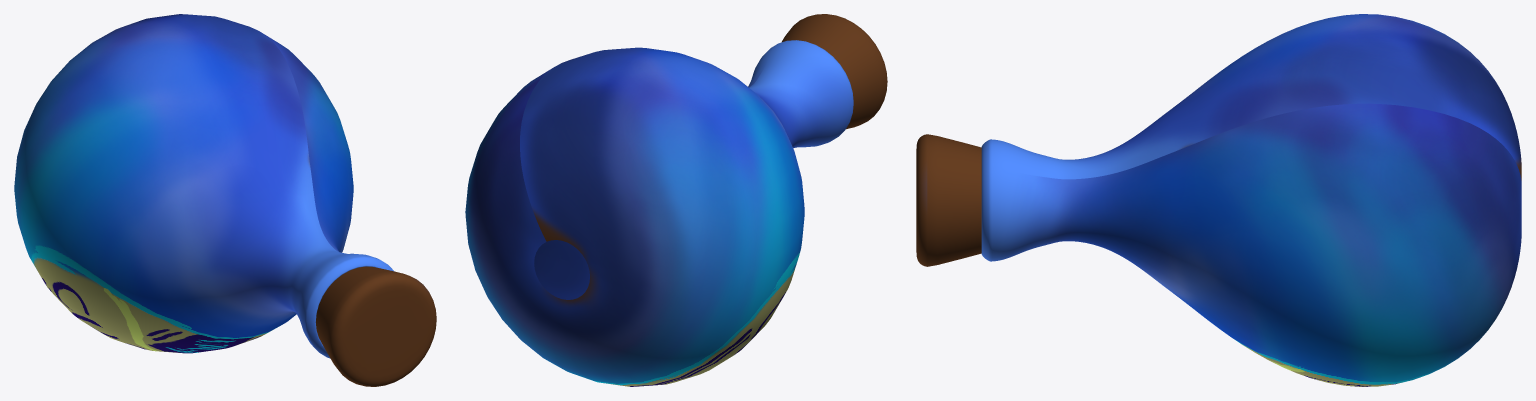
Rendered from BlueCuracao.fbx.
3 renders of one model, left to right at view 1: azimuth 30°, elevation 25°; view 2: azimuth 150°, elevation 25°; view 3: azimuth 270°, elevation 25°, orthographic. The views are drawn at different scales.
Parts seen in each view (by area): view 1: defaultMaterial; view 2: defaultMaterial; view 3: defaultMaterial.
Part boxes in pixels (box(x1,y1,x2,y2)): defaultMaterial: box(14, 14, 436, 386); defaultMaterial: box(465, 14, 887, 386); defaultMaterial: box(916, 14, 1521, 386).
Bounding box in the file's own units: 4108 × 4108 × 6662.
